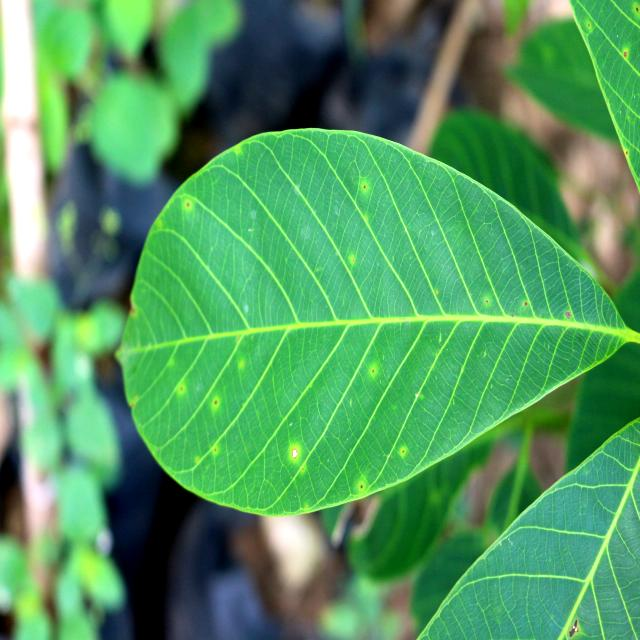Colletotrichum: (292, 449, 298, 458)
